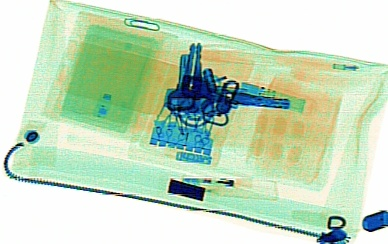lighter: (173, 173, 277, 197)
